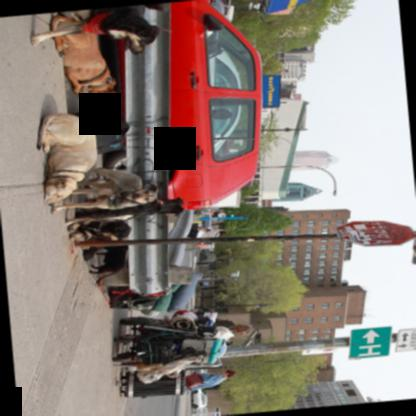backpack: (73, 109, 129, 155)
handbag: (186, 373, 222, 389)
suitcase: (108, 286, 140, 309)
